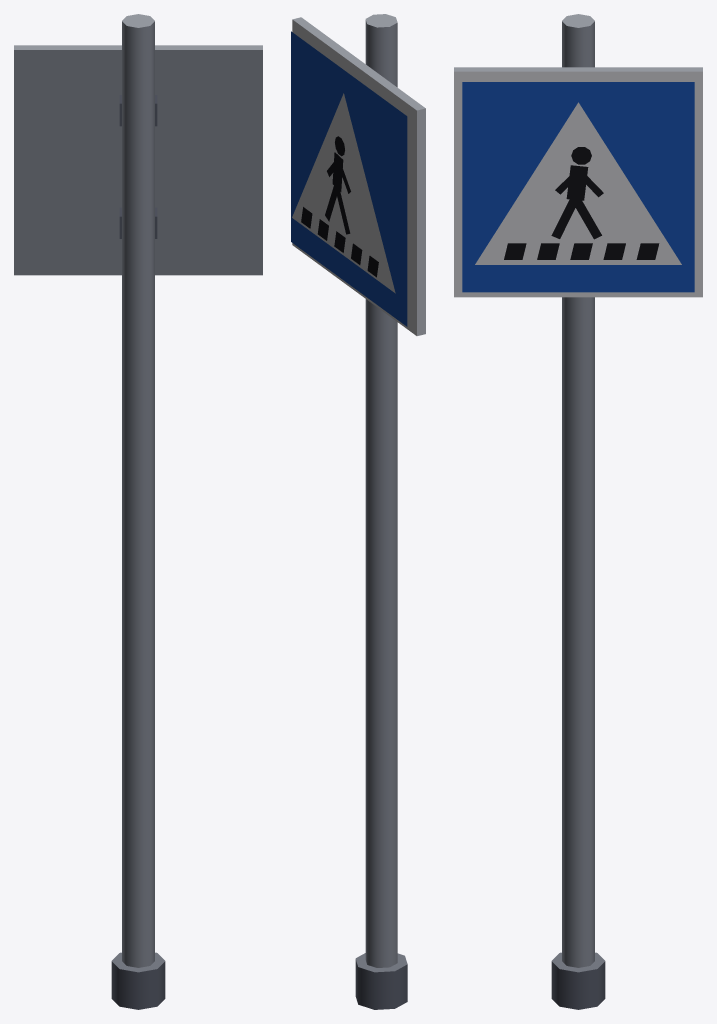
The model's file is sign_crosswalk.glb.
3 views of the same model, side by side, from view 1: azimuth 90°, elevation 25°; view 2: azimuth 210°, elevation 25°; view 3: azimuth 270°, elevation 25° (orthographic).
Parts seen in each view (by area): view 1: Sign; view 2: Sign; view 3: Sign.
Part boxes in pixels (bbox=[...]): Sign: bbox=[14, 14, 262, 1009]; Sign: bbox=[291, 14, 425, 1009]; Sign: bbox=[454, 14, 702, 1009].
Bounding box in the file's own units: 0.185 × 2.6 × 0.6.
